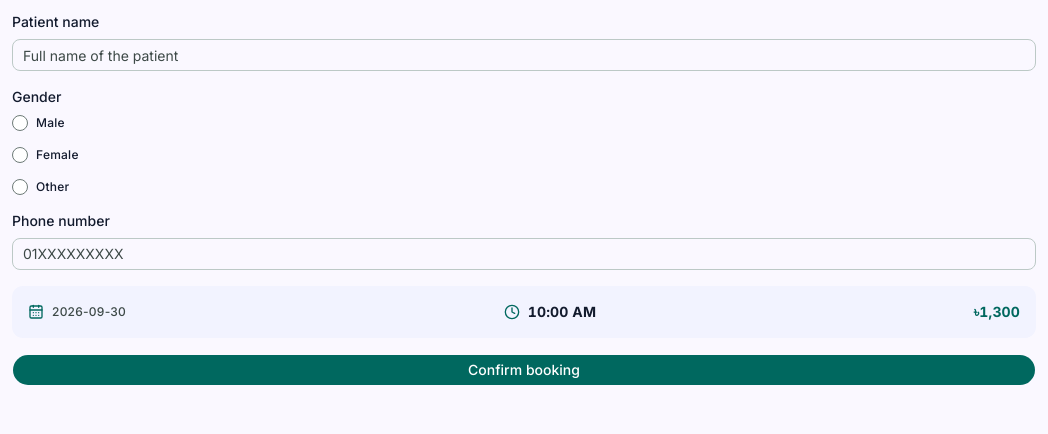
BookingForm › maps a 409 to the slot-taken message and keeps the form open
The image size is (1048, 434).
Type "Rifat Hossain" into the field labelled "Patient name" at (524, 55), box top-left (12, 39), bottom-right (1036, 71)
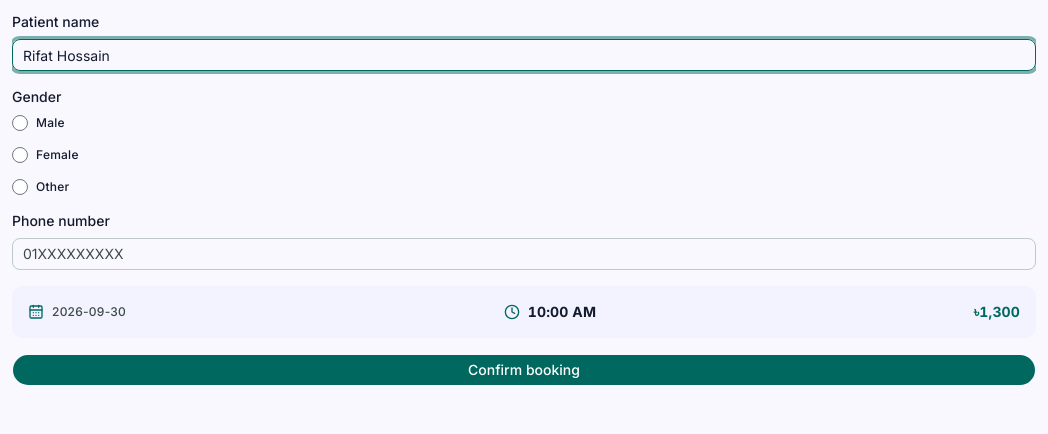
Click the 1st radio button named "Male" at (20, 122), box top-left (12, 114), bottom-right (28, 130)
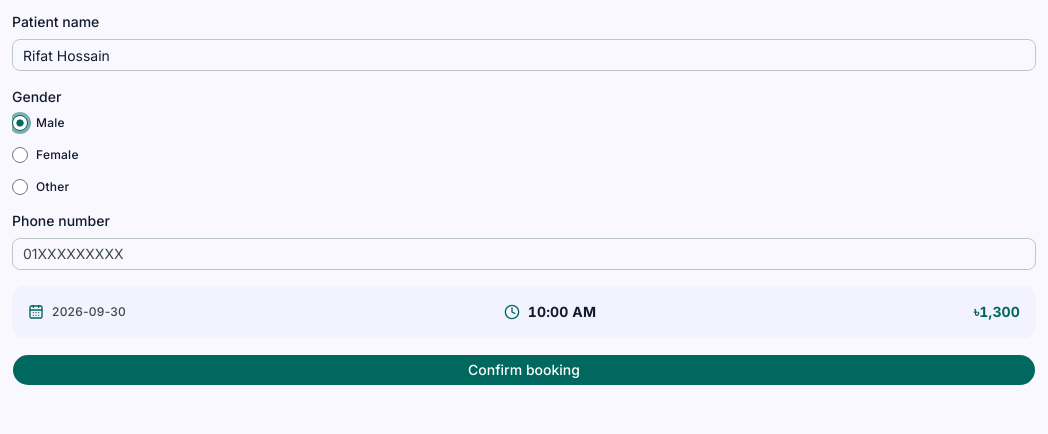
Type "01712345678" into the field labelled "Phone number" at (524, 254), box top-left (12, 238), bottom-right (1036, 270)
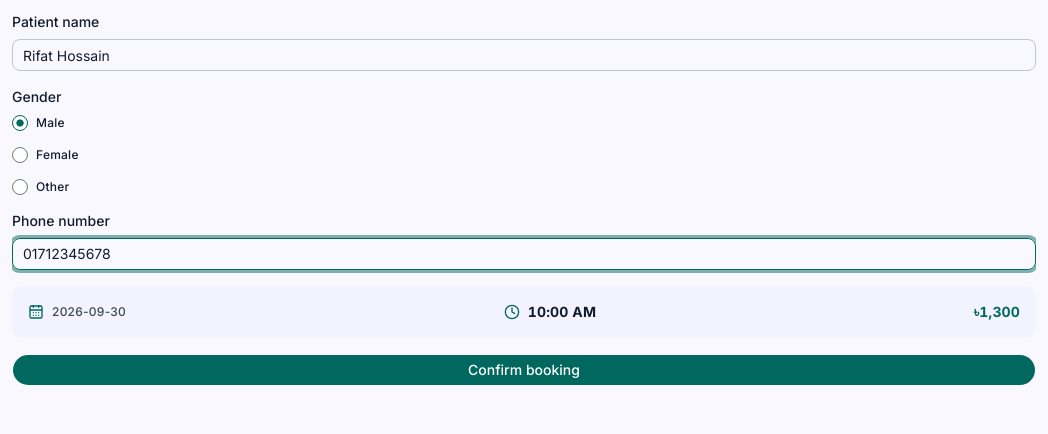
Click the button "Confirm booking" at (524, 370), box top-left (12, 354), bottom-right (1036, 386)
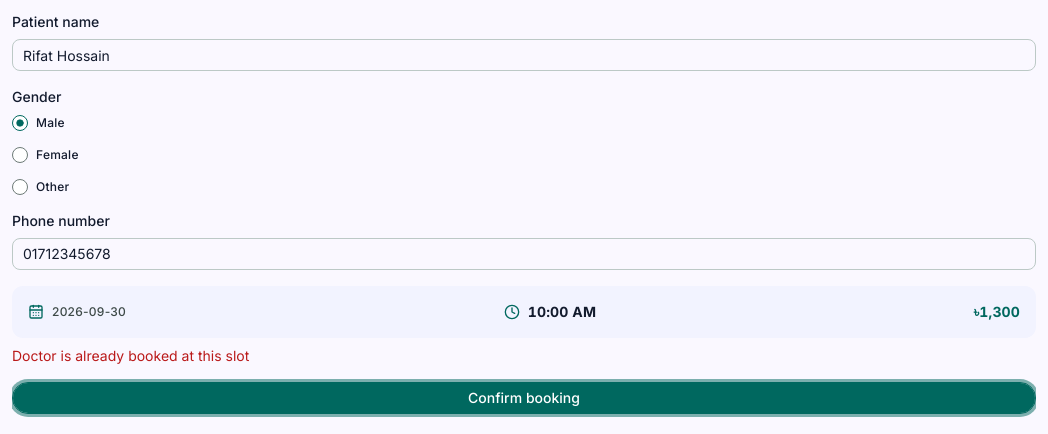
Expected: the button "Confirm booking" is enabled, top-left (12, 382), bottom-right (1036, 414)
Expected: the text "Doctor is already booked at this slot" is shown, top-left (12, 347), bottom-right (249, 364)
